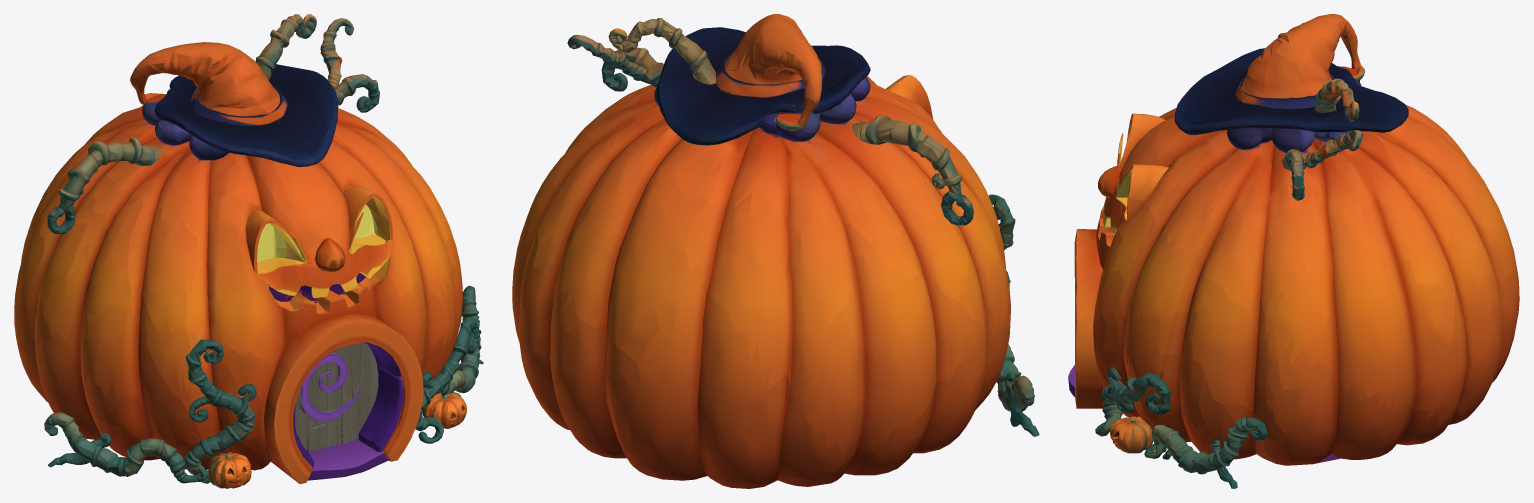
File: hw-gate.glb
The picture shows the model from 3 angles, left to right: view 1: azimuth 30°, elevation 25°; view 2: azimuth 150°, elevation 25°; view 3: azimuth 270°, elevation 25°; orthographic projection. The views are drawn at different scales.
Bounding box in the file's own units: 1.9 × 1.45 × 1.69.
1 material, 1 textured.
